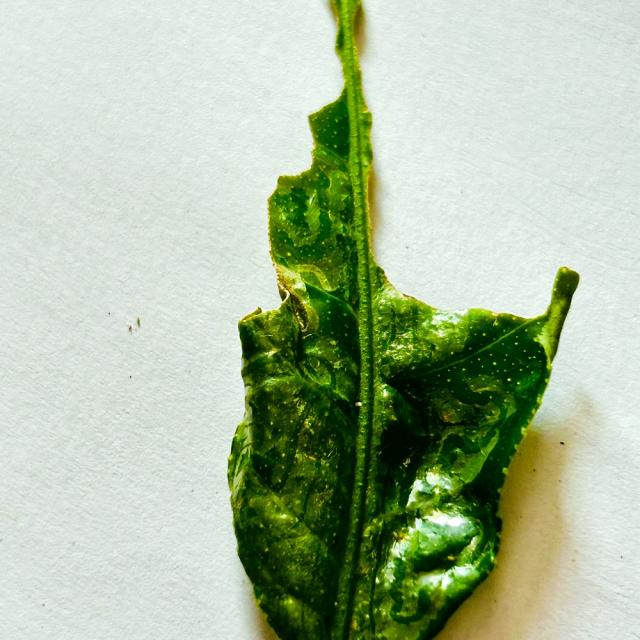Deficiency Leaf: (362, 76, 563, 317), (244, 232, 281, 324), (304, 34, 346, 111), (282, 103, 314, 184)
Lemon: (228, 0, 579, 639)
